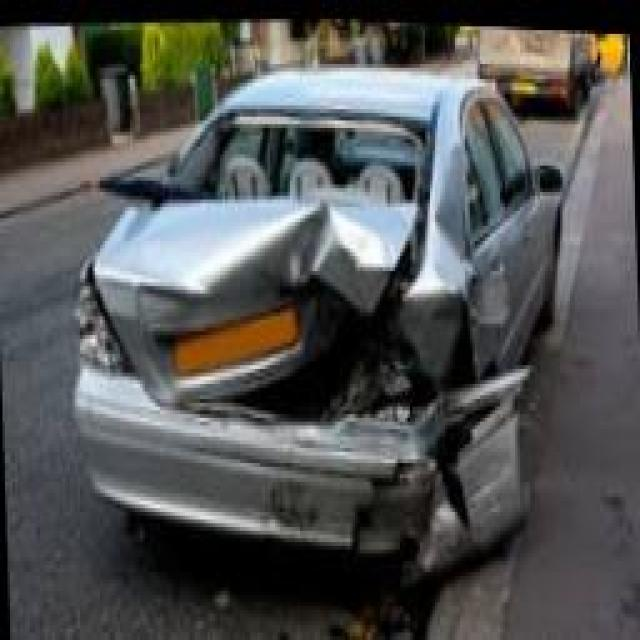Bumper: (84, 360, 529, 547)
Dickey: (90, 114, 428, 413)
Light: (73, 269, 135, 375), (365, 309, 417, 397)
Windshield: (184, 109, 425, 190)
